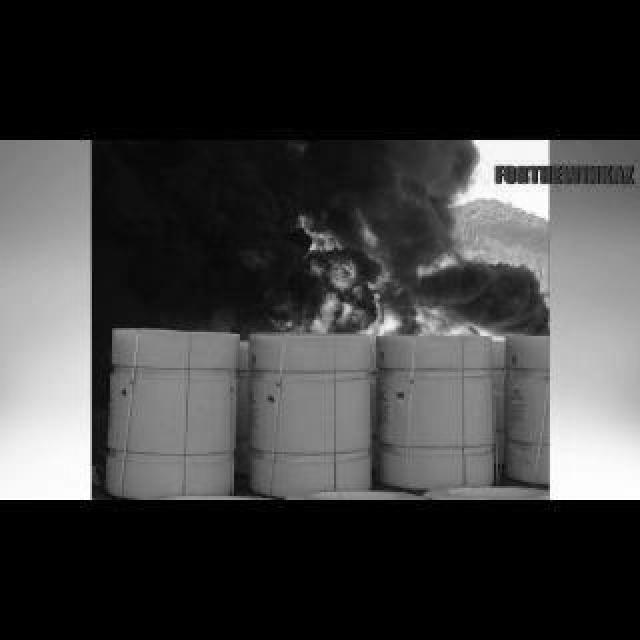Fire: (270, 212, 514, 336)
